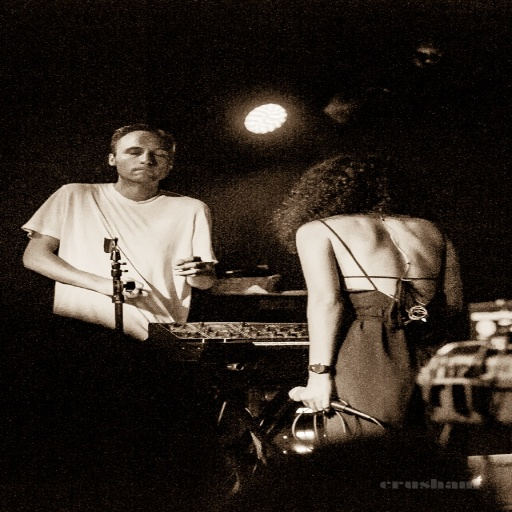hand: (104, 275, 149, 301), (168, 252, 209, 278), (299, 382, 331, 414)
